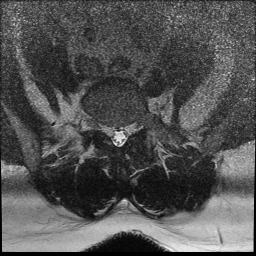CCS_normal: (115, 120, 122, 153)
LFS_normal: (130, 113, 139, 138)
LLS_normal: (122, 119, 130, 148)
RFS_normal: (100, 115, 108, 139)
RLS_normal: (108, 117, 115, 148)
